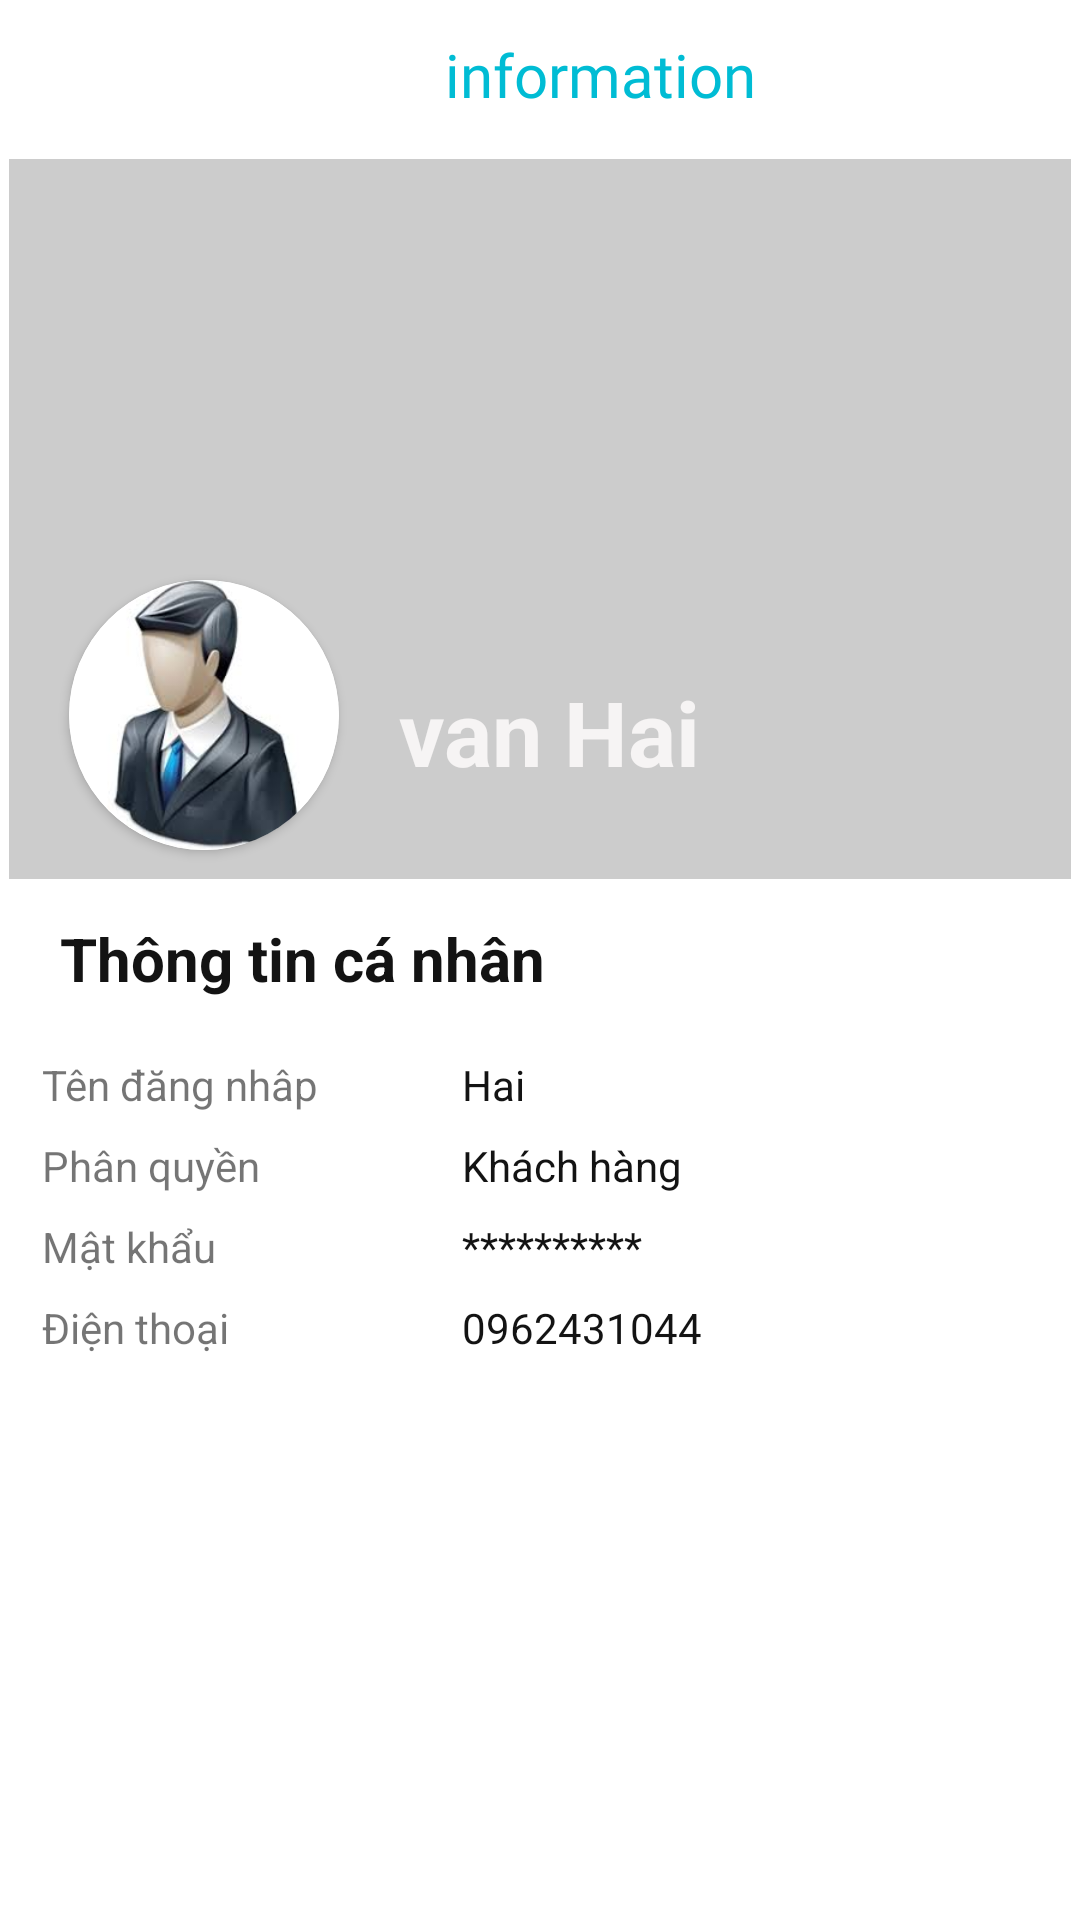

Icon click points for this 1080px×1920px phone screenshot, format (x=x, y=y):
user: (x=204, y=715)
